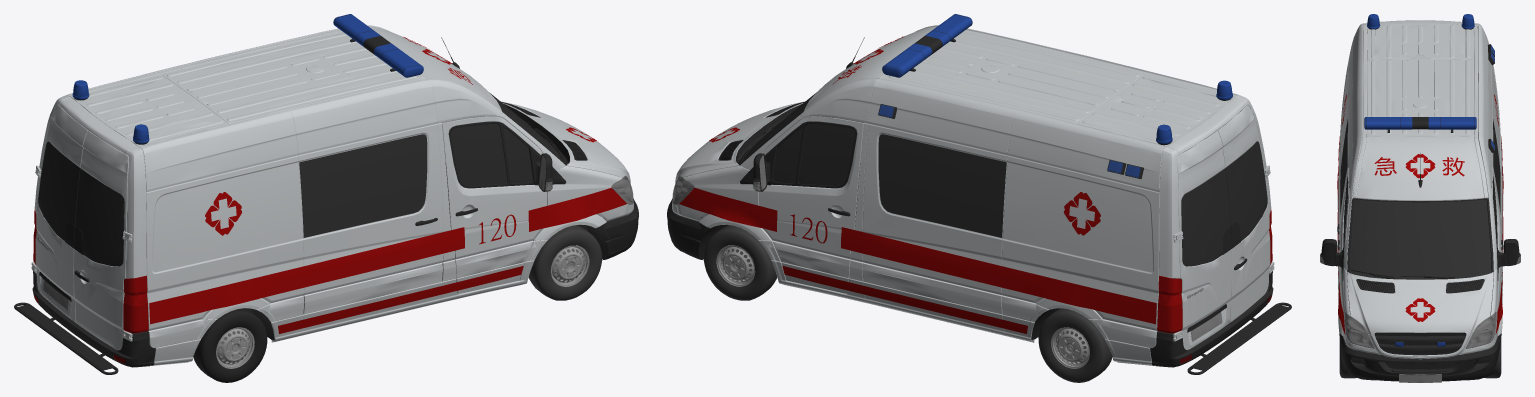
The model's file is Ambulance.FBX.
The picture shows the model from 3 angles, left to right: view 1: azimuth 30°, elevation 25°; view 2: azimuth 150°, elevation 25°; view 3: azimuth 270°, elevation 25°; orthographic projection. The views are drawn at different scales.
Parts seen in each view (by area): view 1: jiuhuche_16, jiuhuche_25, jiuhuche_28, jiuhuche_13, jiuhuche_26, jiuhuche_11, jiuhuche_29, jiuhuche_12, jiuhuche_18, jiuhuche_39, jiuhuche_15, jiuhuche_38; view 2: jiuhuche_16, jiuhuche_25, jiuhuche_28, jiuhuche_13, jiuhuche_26, jiuhuche_11, jiuhuche_29, jiuhuche_12, jiuhuche_18, jiuhuche_39, jiuhuche_15; view 3: jiuhuche_25, jiuhuche_28, jiuhuche_26, jiuhuche_16, jiuhuche_13, jiuhuche_18, jiuhuche_23, jiuhuche_22, jiuhuche_11, jiuhuche_24.
Boxes of the visible parts, box(x1,y1,x2,y2) form: jiuhuche_16: box(34, 25, 629, 365); jiuhuche_25: box(31, 26, 633, 349); jiuhuche_28: box(38, 92, 564, 266); jiuhuche_13: box(149, 37, 626, 324); jiuhuche_26: box(32, 14, 638, 367); jiuhuche_11: box(193, 225, 602, 382); jiuhuche_29: box(256, 240, 547, 322); jiuhuche_12: box(278, 266, 523, 333); jiuhuche_18: box(72, 14, 423, 143); jiuhuche_39: box(33, 209, 148, 333); jiuhuche_15: box(17, 304, 115, 370); jiuhuche_38: box(148, 319, 217, 347); jiuhuche_16: box(676, 25, 1271, 365); jiuhuche_25: box(672, 26, 1274, 349); jiuhuche_28: box(741, 92, 1267, 266); jiuhuche_13: box(679, 36, 1156, 324); jiuhuche_26: box(667, 14, 1273, 367); jiuhuche_11: box(703, 225, 1112, 382); jiuhuche_29: box(758, 240, 1157, 347); jiuhuche_12: box(782, 266, 1027, 333); jiuhuche_18: box(882, 14, 1232, 143); jiuhuche_39: box(1157, 209, 1272, 333); jiuhuche_15: box(1190, 304, 1288, 370); jiuhuche_25: box(1345, 20, 1495, 359); jiuhuche_28: box(1340, 119, 1500, 279); jiuhuche_26: box(1320, 28, 1520, 381); jiuhuche_16: box(1337, 23, 1503, 344); jiuhuche_13: box(1337, 94, 1503, 334); jiuhuche_18: box(1364, 14, 1476, 346); jiuhuche_23: box(1344, 312, 1496, 348); jiuhuche_22: box(1345, 312, 1495, 348); jiuhuche_11: box(1339, 339, 1501, 378); jiuhuche_24: box(1399, 374, 1441, 382).
Size of the model in its own units: 5.73 by 2.56 by 2.29.
